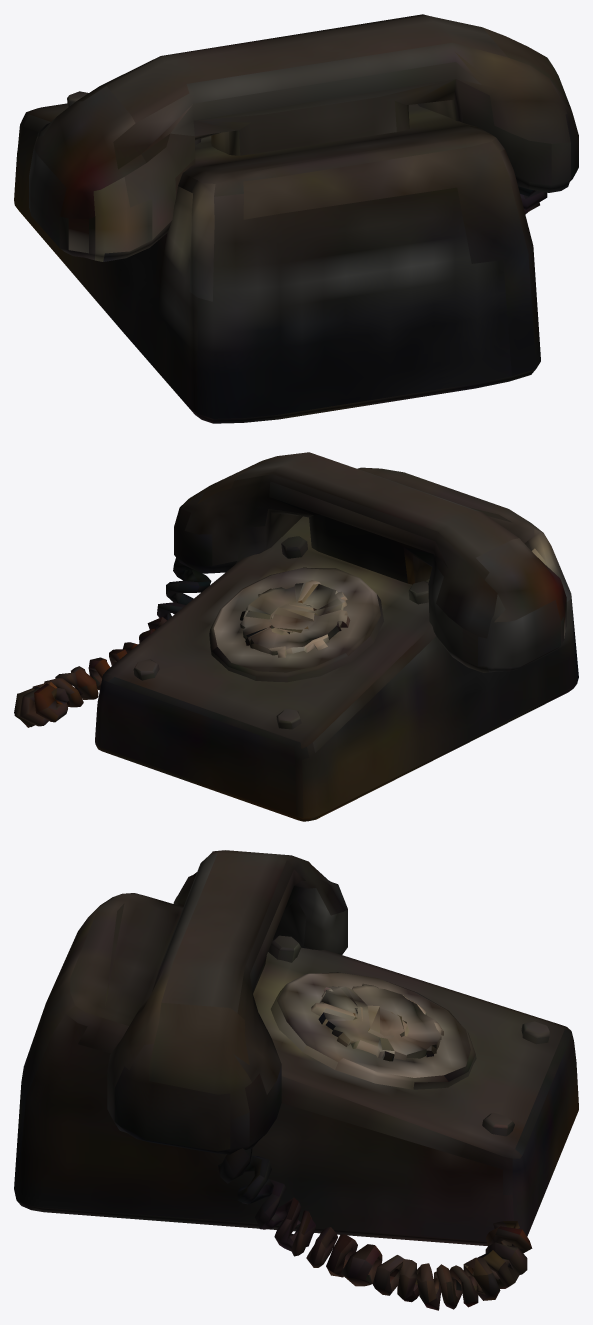
Rendered from OparetionRoom_AI_Prop.024.fbx.
The picture shows the model from 3 angles, top to bottom: view 1: azimuth 30°, elevation 25°; view 2: azimuth 150°, elevation 25°; view 3: azimuth 270°, elevation 25°; orthographic projection. The views are drawn at different scales.
Visible parts, largest first — view 1: OparetionRoom_AI_Prop.024; view 2: OparetionRoom_AI_Prop.024; view 3: OparetionRoom_AI_Prop.024.
Boxes of the visible parts, x1=… form: OparetionRoom_AI_Prop.024: x1=14, y1=14, x2=578, y2=423; OparetionRoom_AI_Prop.024: x1=14, y1=452, x2=578, y2=821; OparetionRoom_AI_Prop.024: x1=14, y1=850, x2=578, y2=1310.
Bounding box in the file's own units: 62.87 × 30.03 × 58.54.
